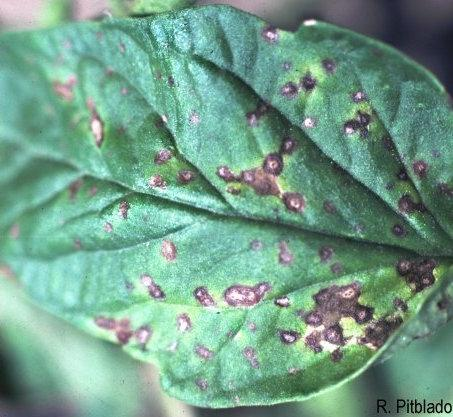Tomato Septoria leaf spot: (1, 14, 446, 407)
